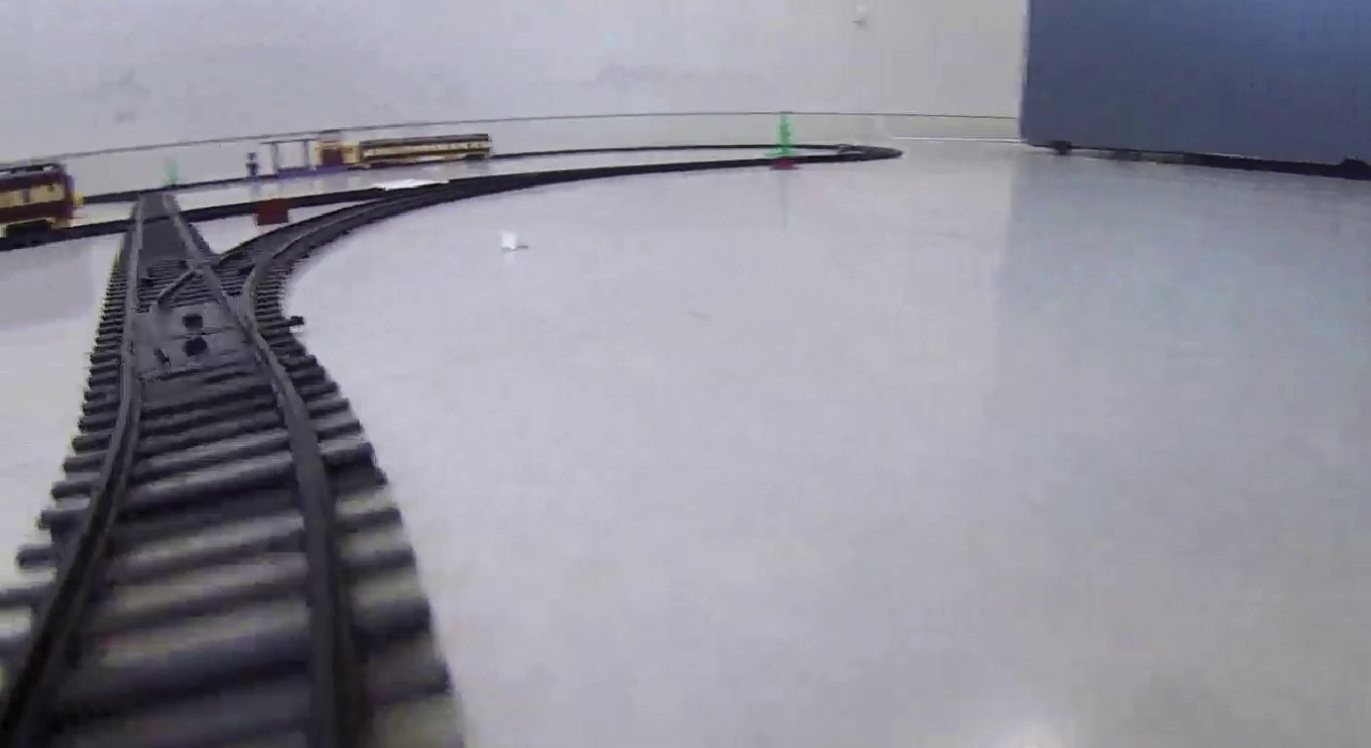box: (255, 197, 291, 225)
